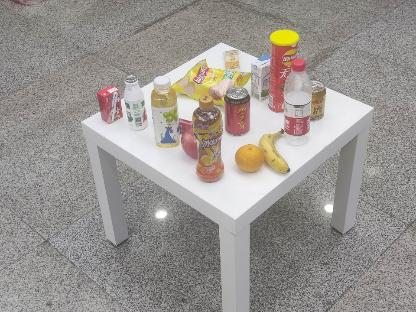Can: (224, 86, 252, 136), (306, 76, 326, 122)
Others: (264, 29, 300, 112), (249, 53, 275, 102), (94, 84, 124, 124)
Plastic Bottle: (280, 56, 314, 146)
